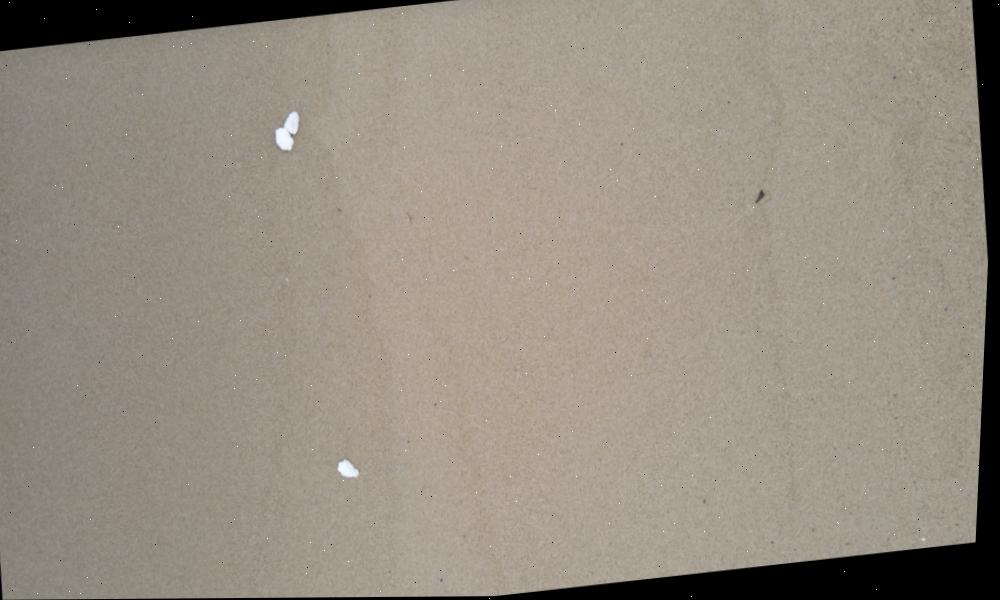styrofoam: (275, 112, 302, 154), (341, 456, 365, 484)
